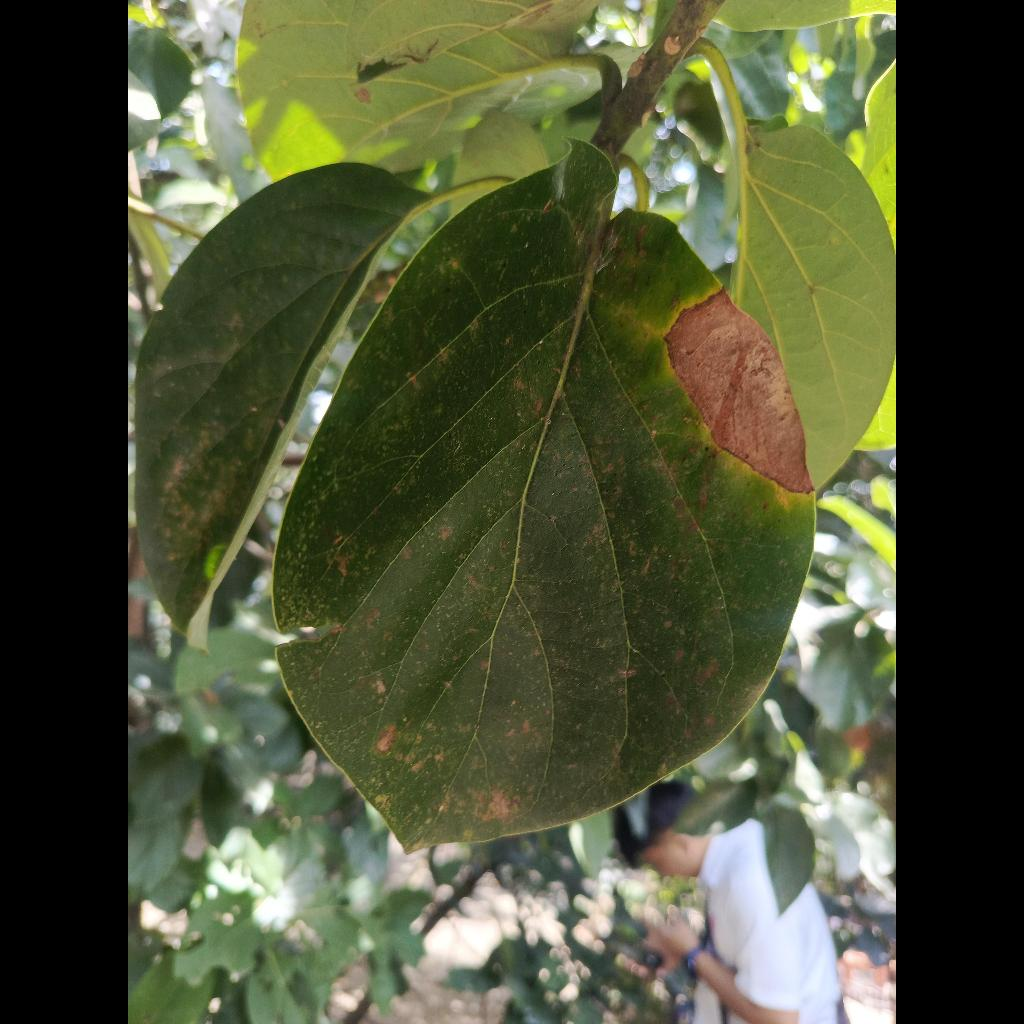Anthracnose: (274, 142, 815, 850)
